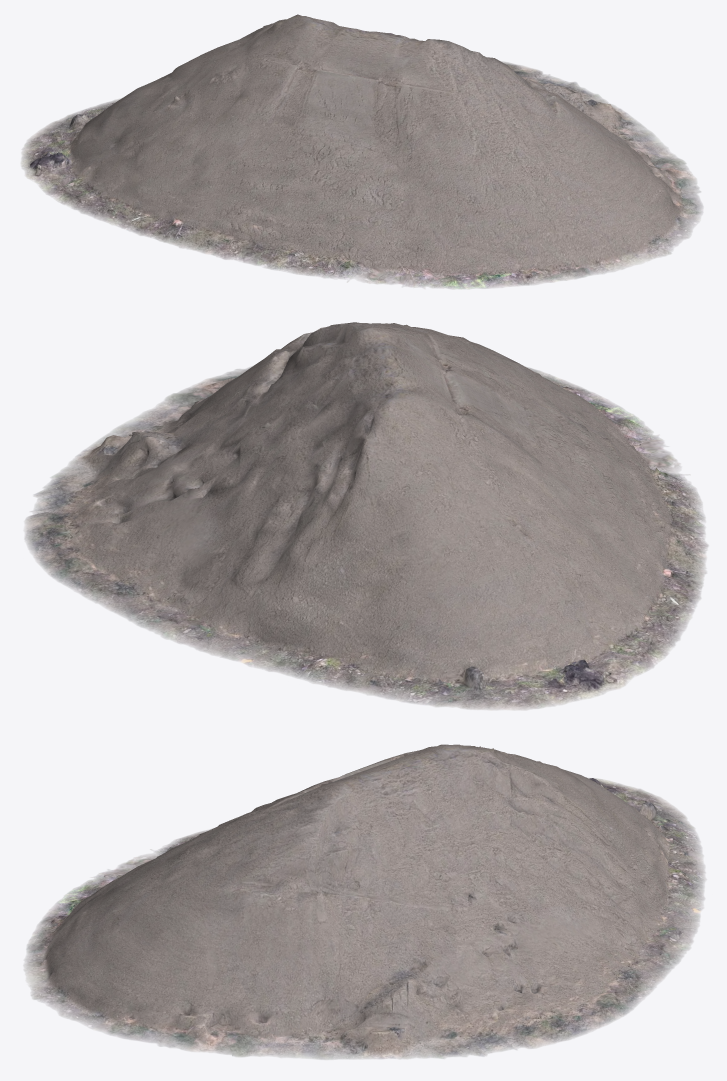
The model's file is PRP_SaltPile.glb.
3 views of the same model, one above another, from view 1: azimuth 30°, elevation 25°; view 2: azimuth 150°, elevation 25°; view 3: azimuth 270°, elevation 25° (orthographic). The views are drawn at different scales.
Parts seen in each view (by area): view 1: hromada_pisek_01_30k_hromada_pisek_01_30k_Material_0; view 2: hromada_pisek_01_30k_hromada_pisek_01_30k_Material_0; view 3: hromada_pisek_01_30k_hromada_pisek_01_30k_Material_0.
Boxes of the visible parts, bbox=[...] form: hromada_pisek_01_30k_hromada_pisek_01_30k_Material_0: bbox=[21, 14, 702, 289]; hromada_pisek_01_30k_hromada_pisek_01_30k_Material_0: bbox=[24, 322, 708, 710]; hromada_pisek_01_30k_hromada_pisek_01_30k_Material_0: bbox=[23, 744, 706, 1059].
Size of the model in its own units: 5.12 by 1.27 by 5.15.
1 material, 1 textured.
